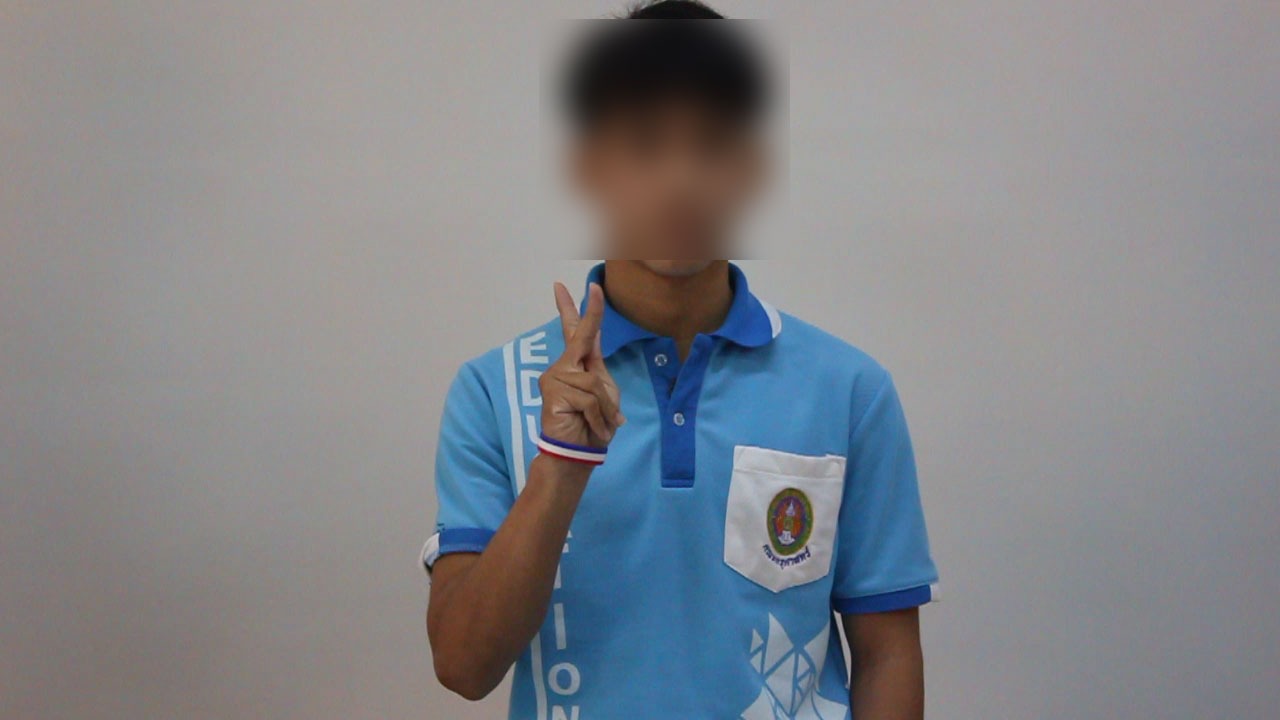ko: (519, 271, 646, 467)
